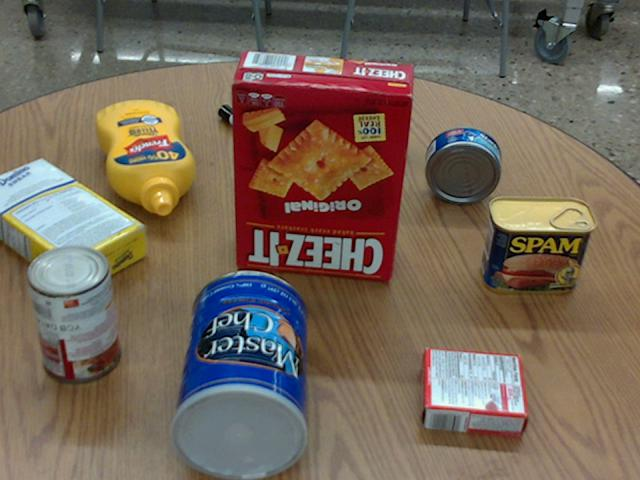cracker_box: (231, 51, 413, 278)
gelatin_box: (420, 347, 529, 435)
large_marker: (217, 105, 281, 155)
master_chef_can: (171, 270, 308, 479)
mug: (302, 62, 389, 151)
mustard_bottle: (95, 100, 194, 214)
potted_meat_can: (480, 196, 596, 294)
sugar_box: (0, 154, 146, 295)
tomato_soup_can: (26, 243, 120, 382)
tuna_fish_can: (424, 126, 500, 203)
